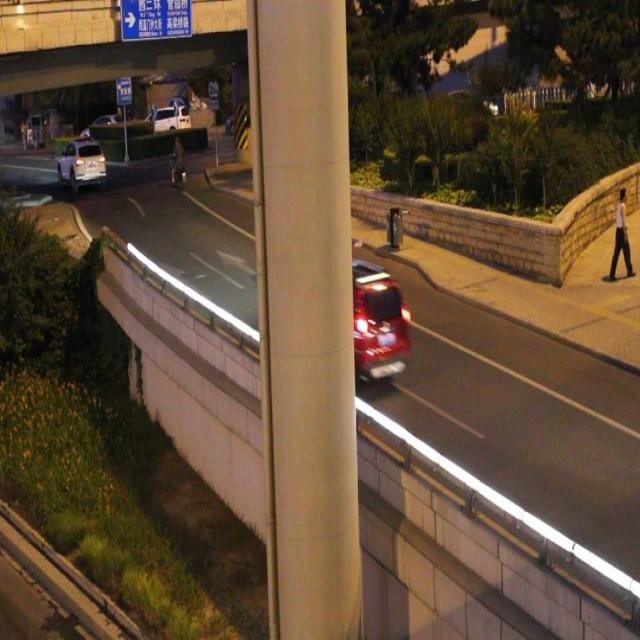car: (288, 259, 408, 383), (268, 232, 352, 312)
